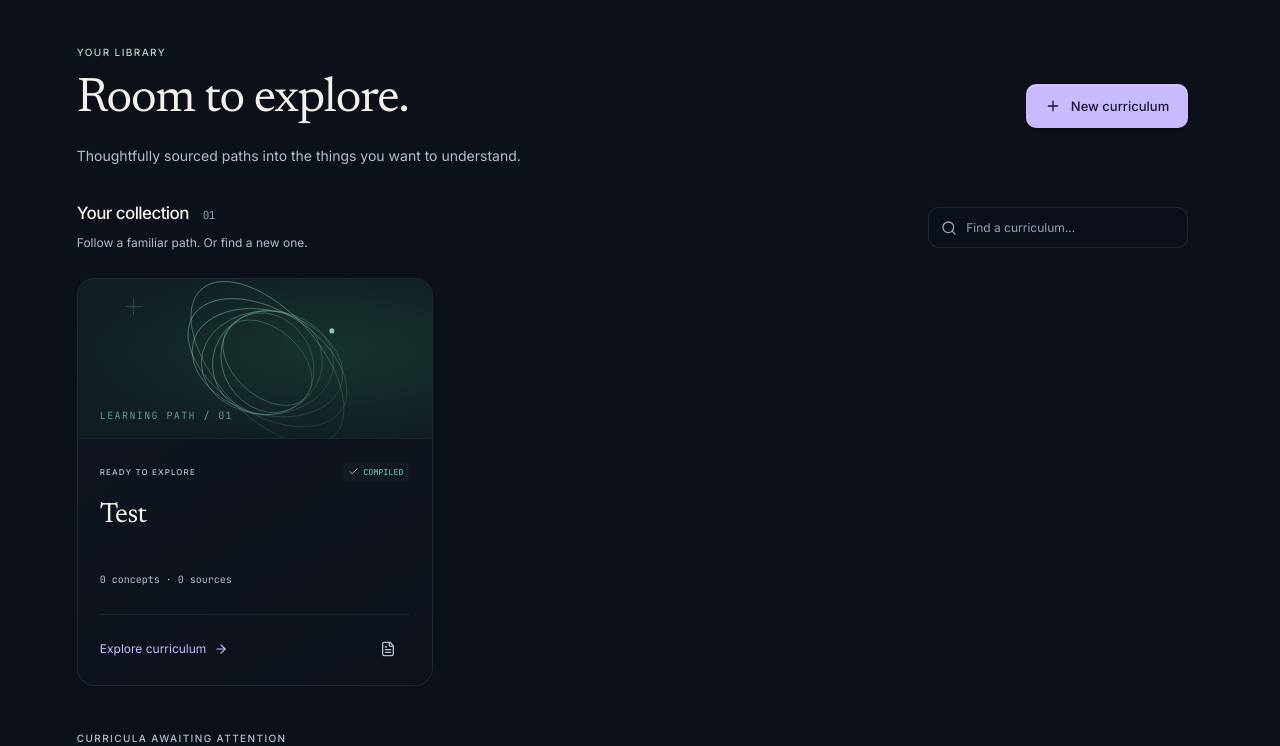
Test case: a verified non-material candidate still has an apply action
Click the button named "Review Test".
click(388, 649)  # box [366,627,410,671]
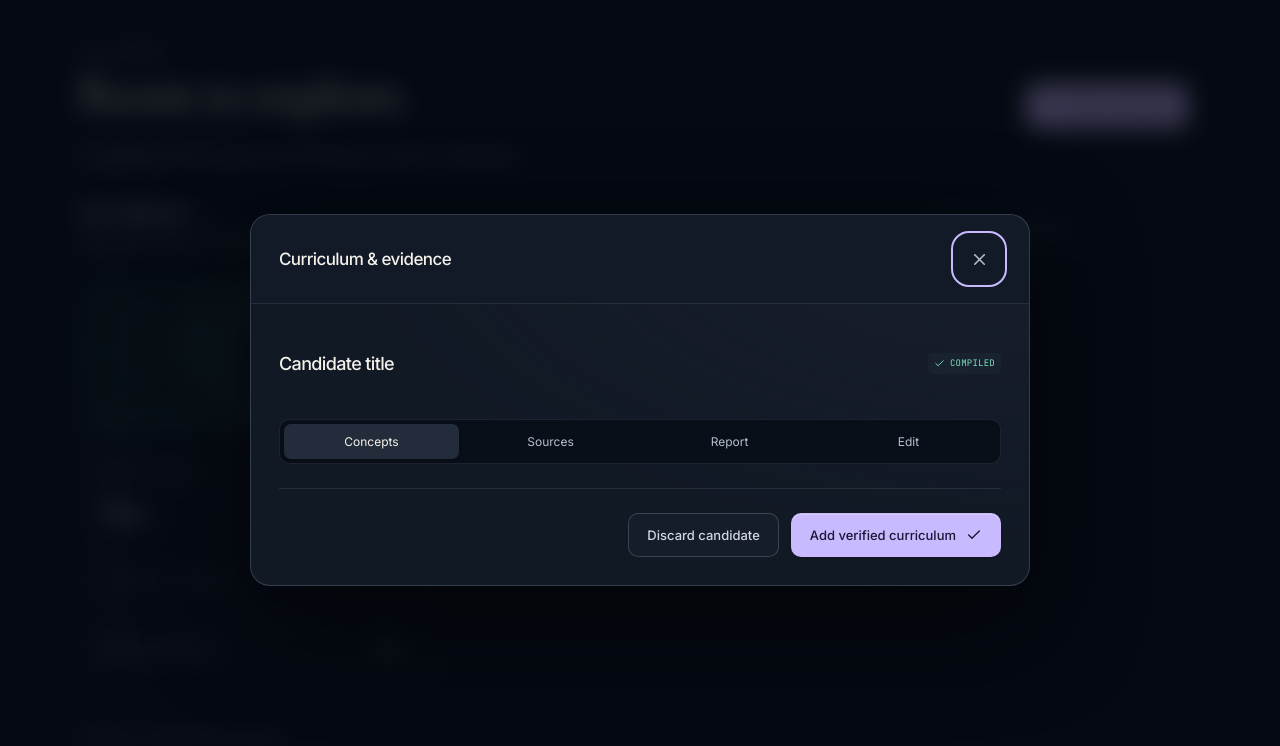
expect the button "Add verified curriculum" is enabled: met, box [791,513,1001,557]
